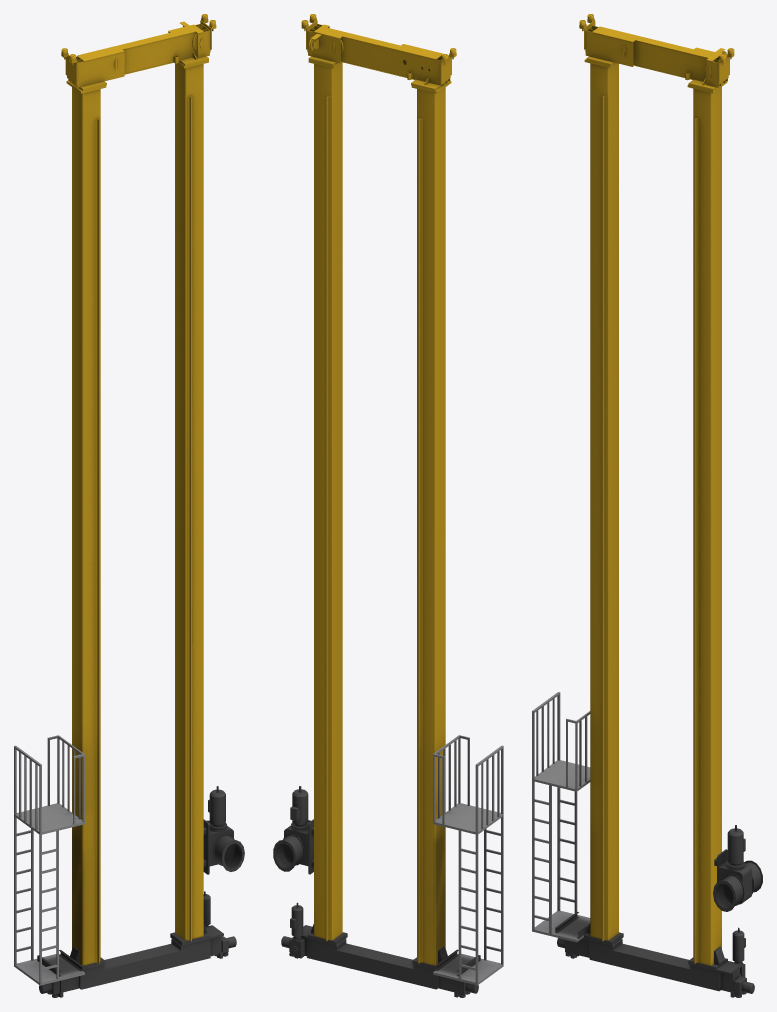
The model's file is SND_duiduoji_lizhu.glb.
The picture shows the model from 3 angles, left to right: view 1: azimuth 30°, elevation 25°; view 2: azimuth 150°, elevation 25°; view 3: azimuth 330°, elevation 25°; orthographic projection.
Parts seen in each view (by area): view 1: Asset3DLoader.sceneRoot; view 2: Asset3DLoader.sceneRoot; view 3: Asset3DLoader.sceneRoot.
Boxes of the visible parts, x1,y1,x2,y2 form: Asset3DLoader.sceneRoot: (14,14,244,997); Asset3DLoader.sceneRoot: (273,14,503,997); Asset3DLoader.sceneRoot: (532,14,762,997).
Size of the model in its own units: 3265 by 14116 by 736.
1 material, 1 textured.
